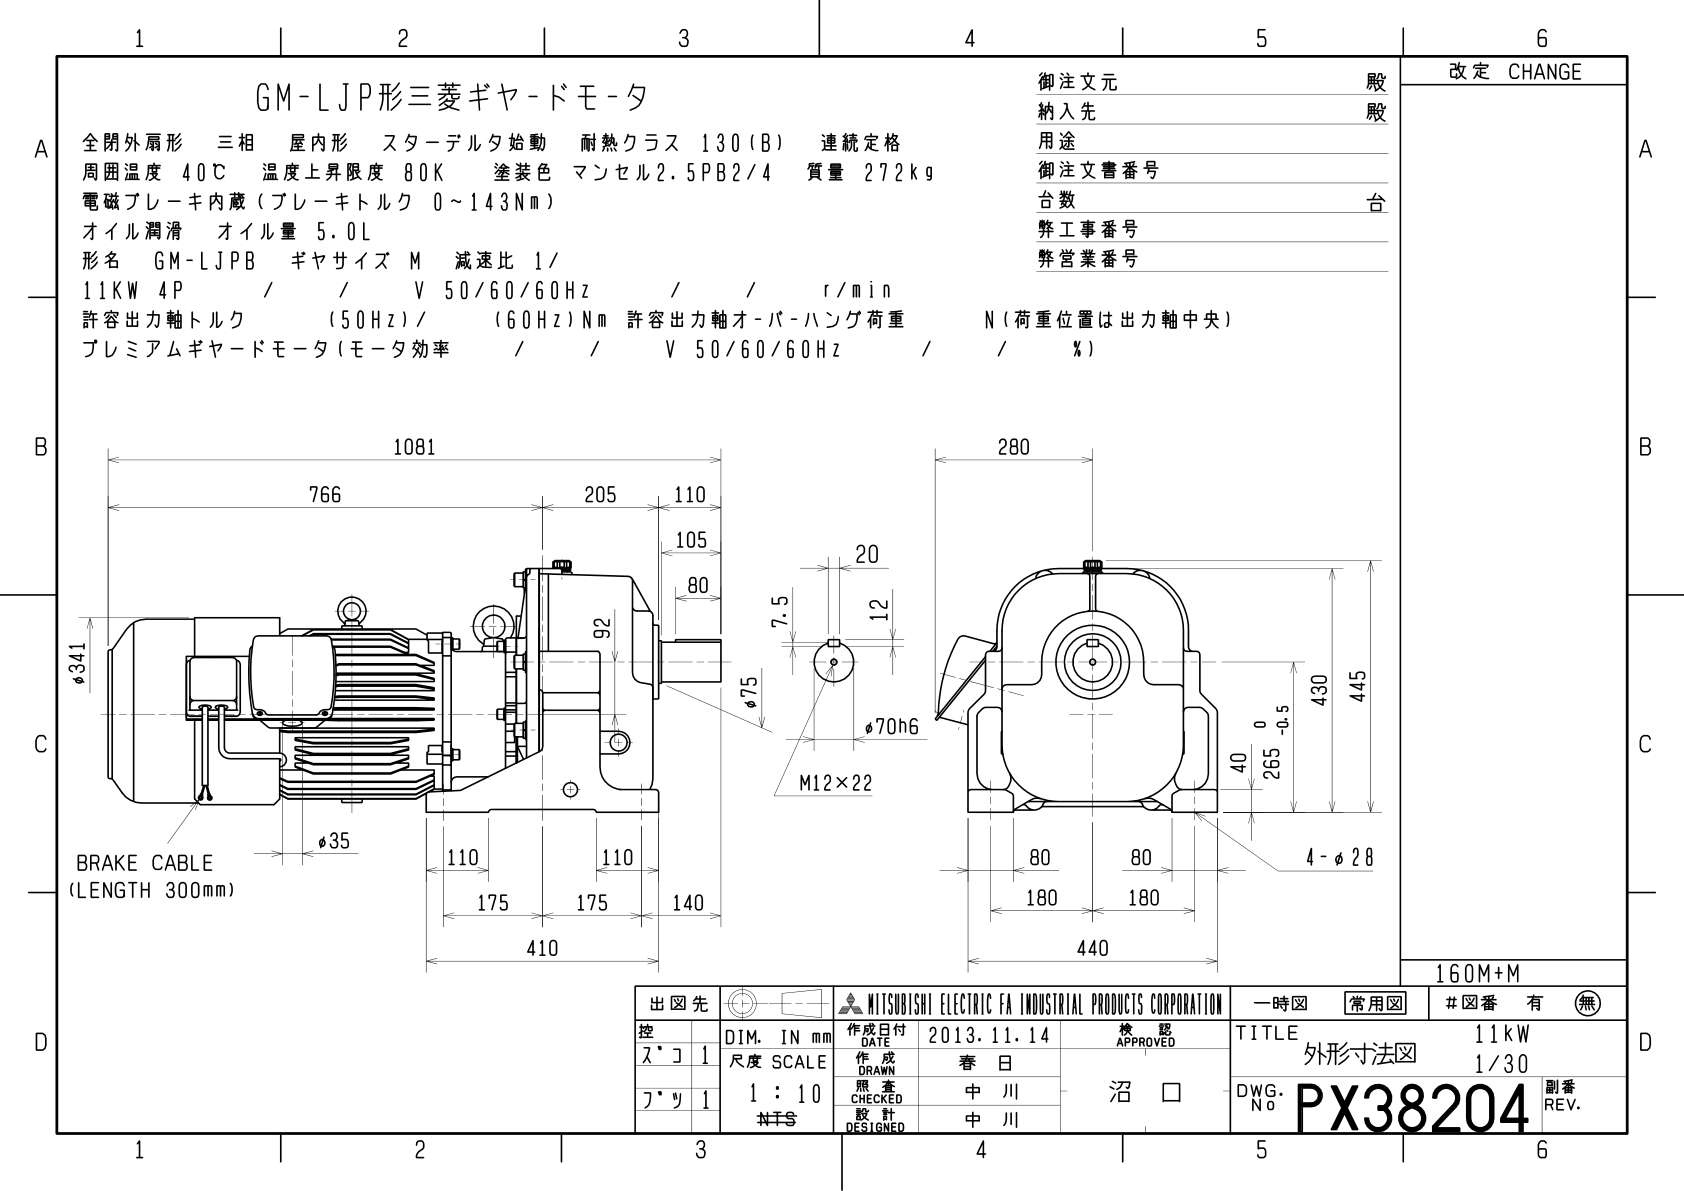GM_LJP_屋内_三相_脚: (21, 24, 1684, 1191)
